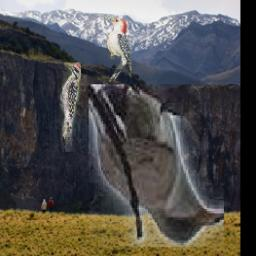Cuckoo: (90, 85, 225, 248)
Woodpecker: (102, 14, 132, 82), (61, 62, 82, 152)
